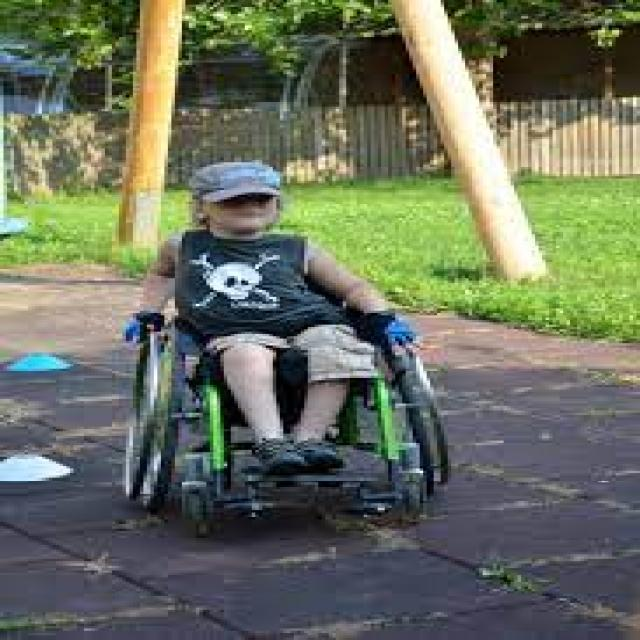wheelchairs: (96, 297, 504, 538)
